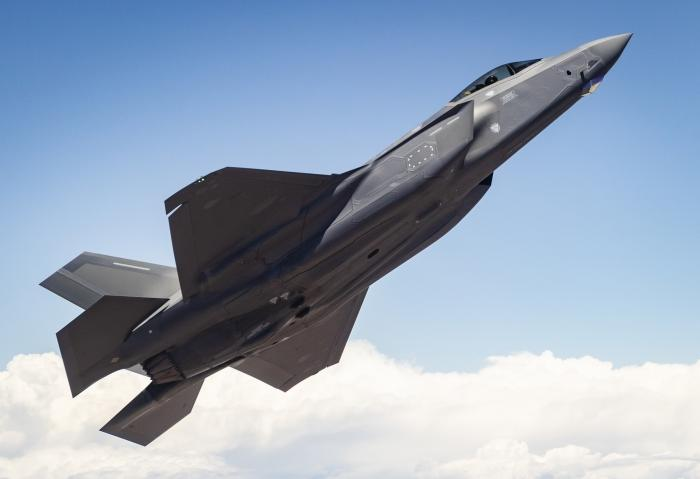F-35 Lightning: (27, 19, 639, 453)
